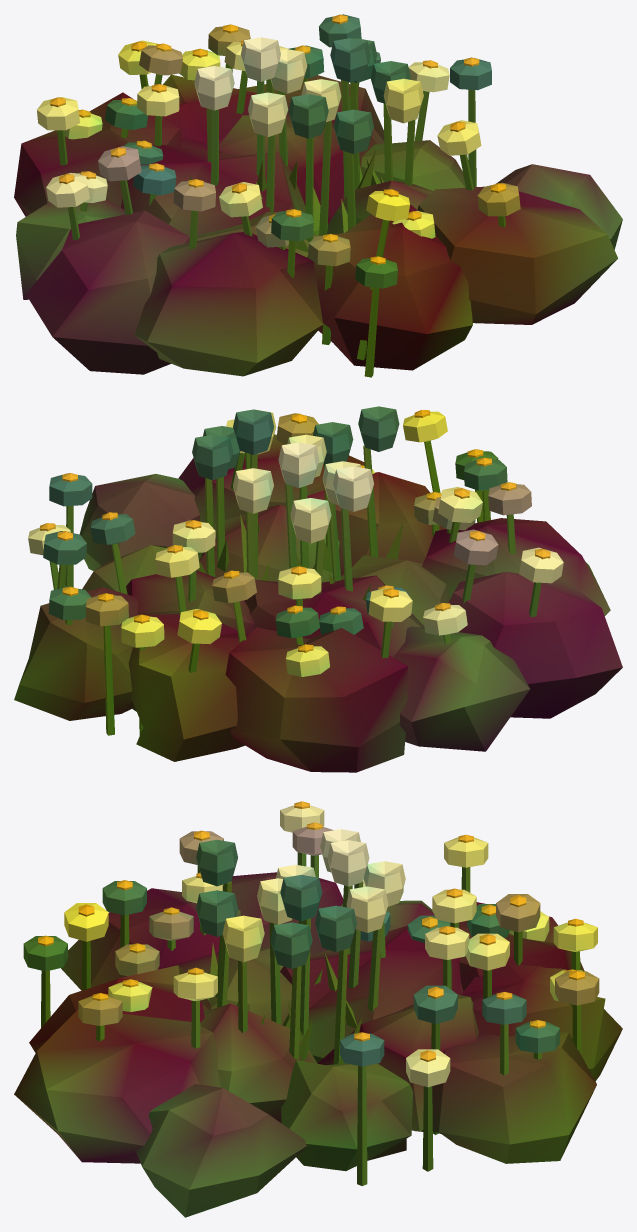
The model's file is FlowerBed_Grass_Round_02.fbx.
The picture shows the model from 3 angles, top to bottom: view 1: azimuth 30°, elevation 25°; view 2: azimuth 150°, elevation 25°; view 3: azimuth 270°, elevation 25°; orthographic projection. The views are drawn at different scales.
Visible parts, largest first — view 1: FlowerBed_Grass_Round_02; view 2: FlowerBed_Grass_Round_02; view 3: FlowerBed_Grass_Round_02.
Boxes of the visible parts, x1,y1,x2,y2 form: FlowerBed_Grass_Round_02: (14, 14, 622, 377); FlowerBed_Grass_Round_02: (14, 406, 622, 772); FlowerBed_Grass_Round_02: (14, 801, 622, 1217).
Bounding box in the file's own units: 1.53 × 0.6339 × 1.41.
